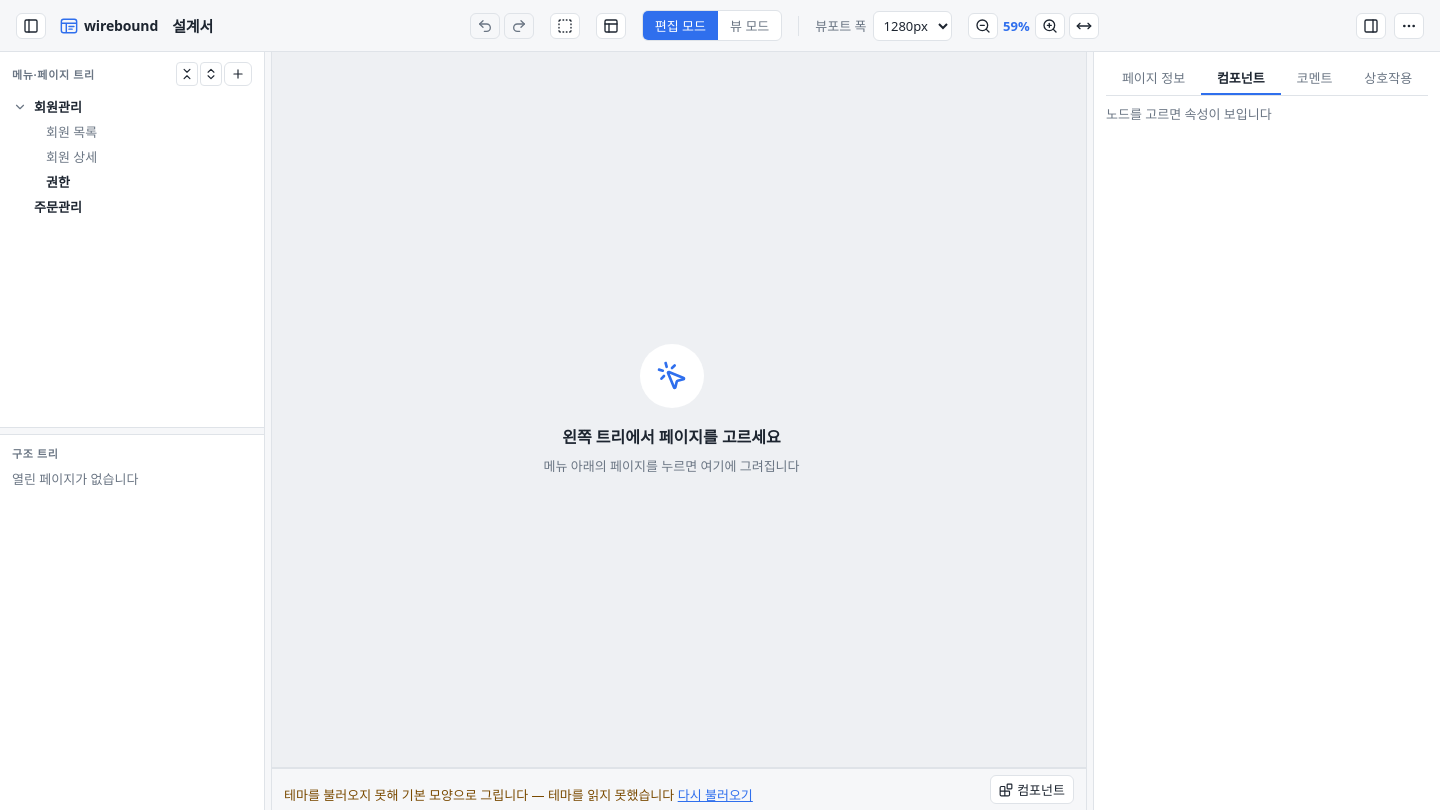
메뉴·페이지 만들기 › 확정하면 입력이 닫힌다
Expected: the heading "설계서" is shown, [172, 15, 213, 36]
Click the button "회원관리": coordinates (111, 106) [30, 94, 192, 119]
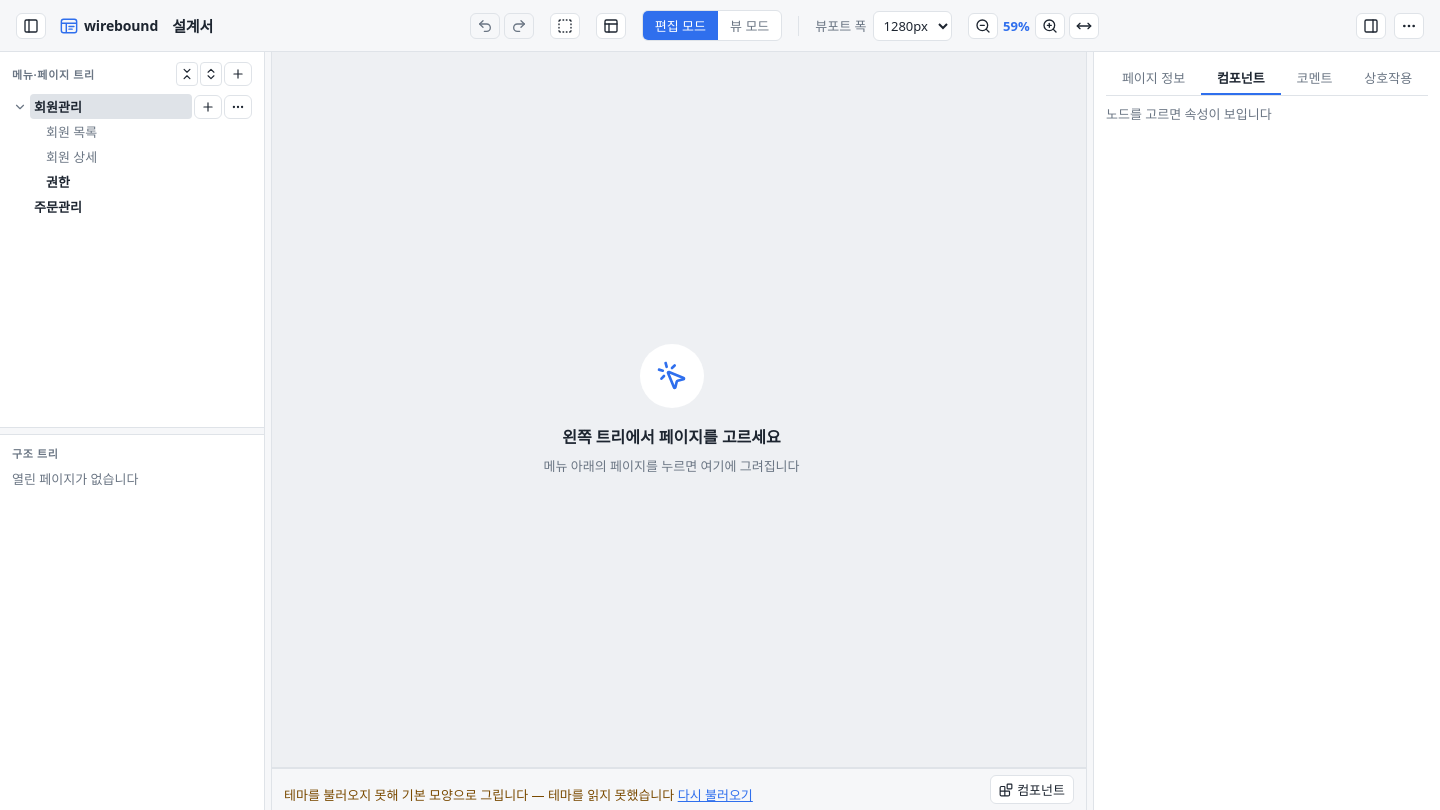
Click the button named "회원관리 추가": coordinates (208, 106) [194, 94, 222, 118]
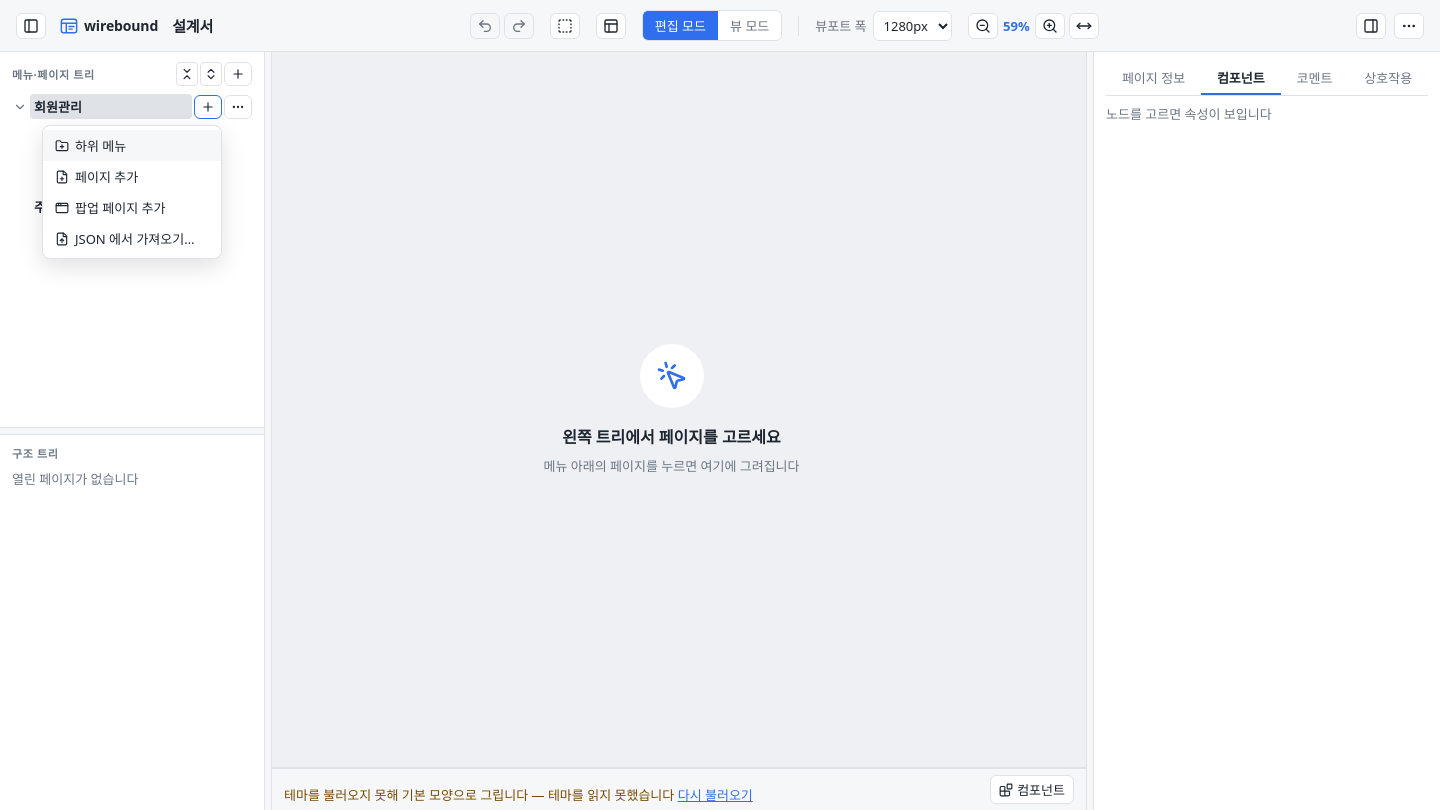
Click the menu item "하위 메뉴": coordinates (132, 145) [43, 130, 221, 160]
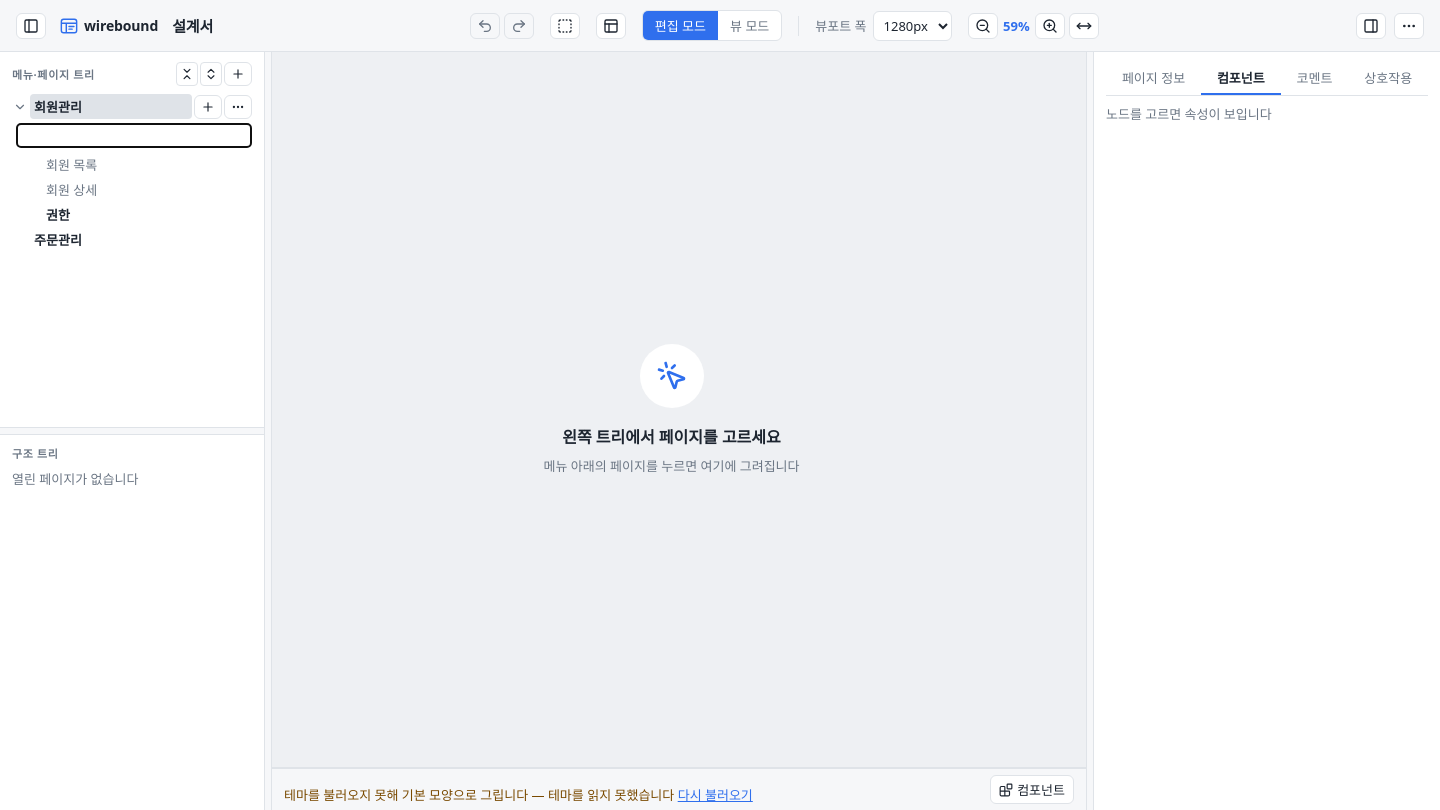
In the field named "이름": coordinates (134, 136) [16, 123, 252, 148], type "사용자"
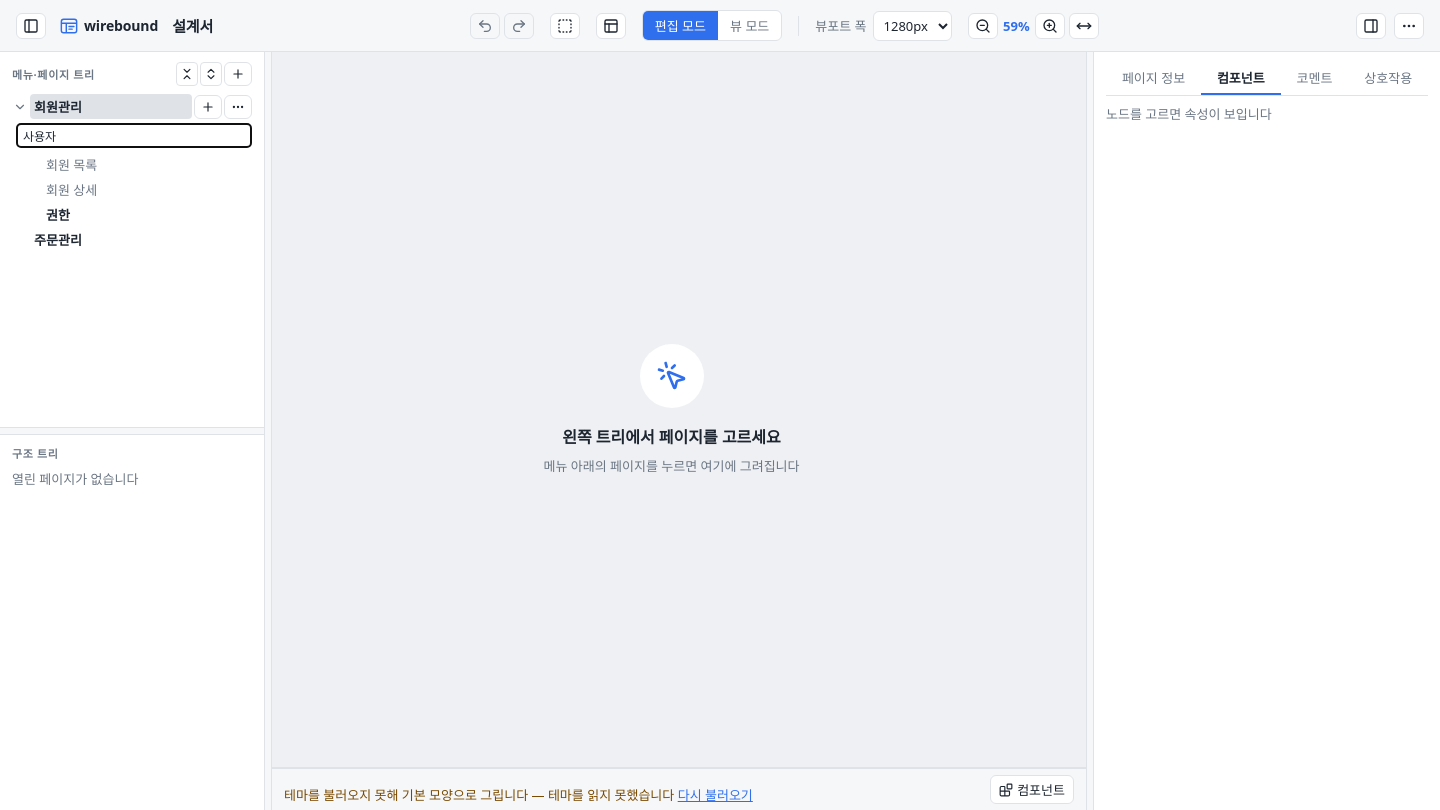
Press Enter in the field named "이름", box [16, 123, 252, 148]
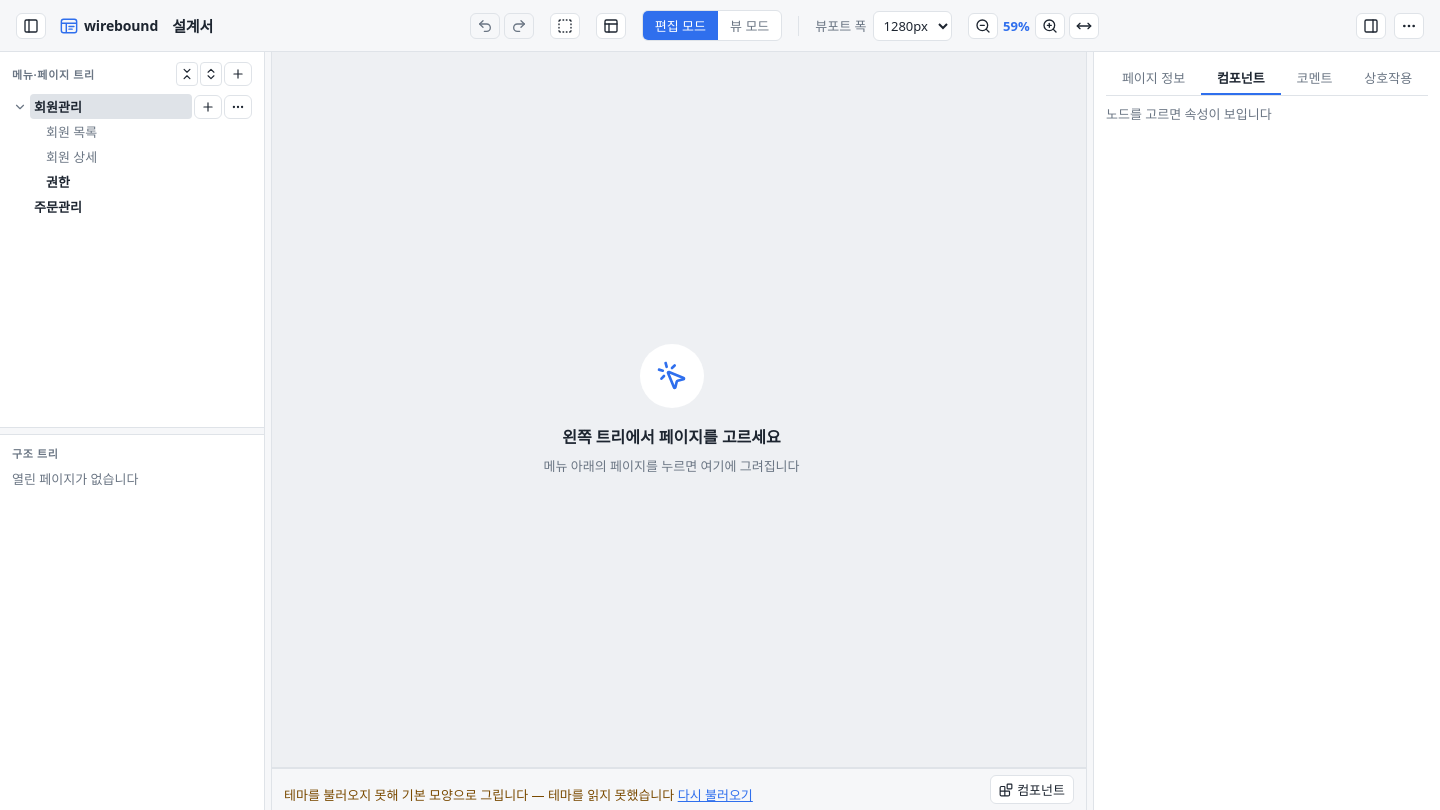
Expected: the field labelled "이름" is gone
